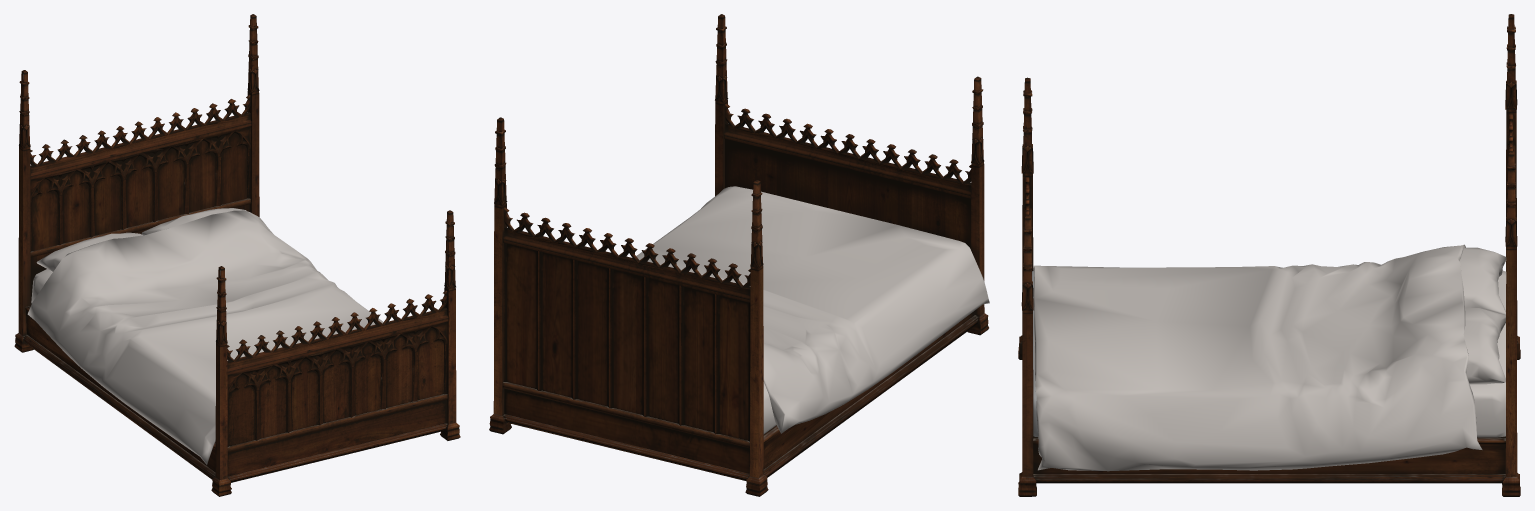
File: GothicBed_01_1k_LOD1.fbx
3 renders of one model, left to right at view 1: azimuth 30°, elevation 25°; view 2: azimuth 150°, elevation 25°; view 3: azimuth 270°, elevation 25°, orthographic. The views are drawn at different scales.
Visible parts, largest first — view 1: GothicBed_01; view 2: GothicBed_01; view 3: GothicBed_01.
Part boxes in pixels (box(x1,y1,x2,y2)): GothicBed_01: box(14, 14, 460, 496); GothicBed_01: box(489, 14, 989, 496); GothicBed_01: box(1018, 14, 1520, 496).
Size of the model in its own units: 149 by 154 by 204.
